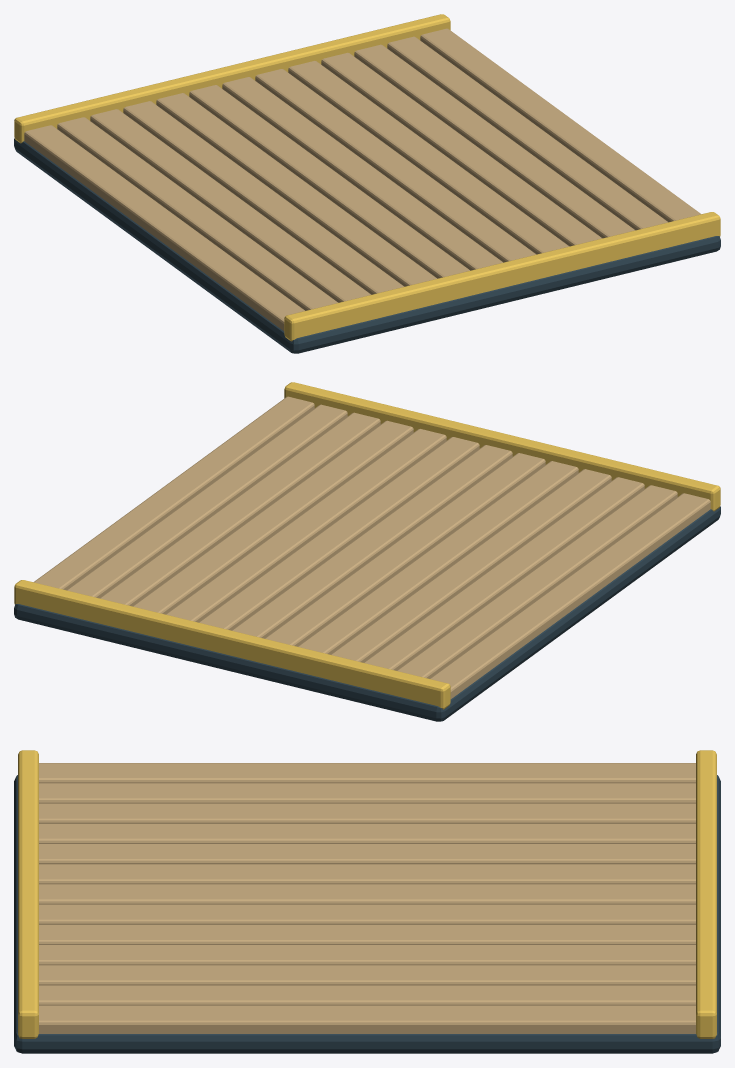
Rendered from ramp.glb.
3 views of the same model, one above another, from view 1: azimuth 30°, elevation 25°; view 2: azimuth 150°, elevation 25°; view 3: azimuth 270°, elevation 25° (orthographic). The views are drawn at different scales.
Parts seen in each view (by area): view 1: tyaga-ramp-surface; view 2: tyaga-ramp-surface; view 3: tyaga-ramp-surface.
Part boxes in pixels (x1,y1,x2,y2): tyaga-ramp-surface: (14,14,720,353); tyaga-ramp-surface: (14,382,720,721); tyaga-ramp-surface: (14,750,720,1053).
Bounding box in the file's own units: 3 × 0.235 × 3.4.
